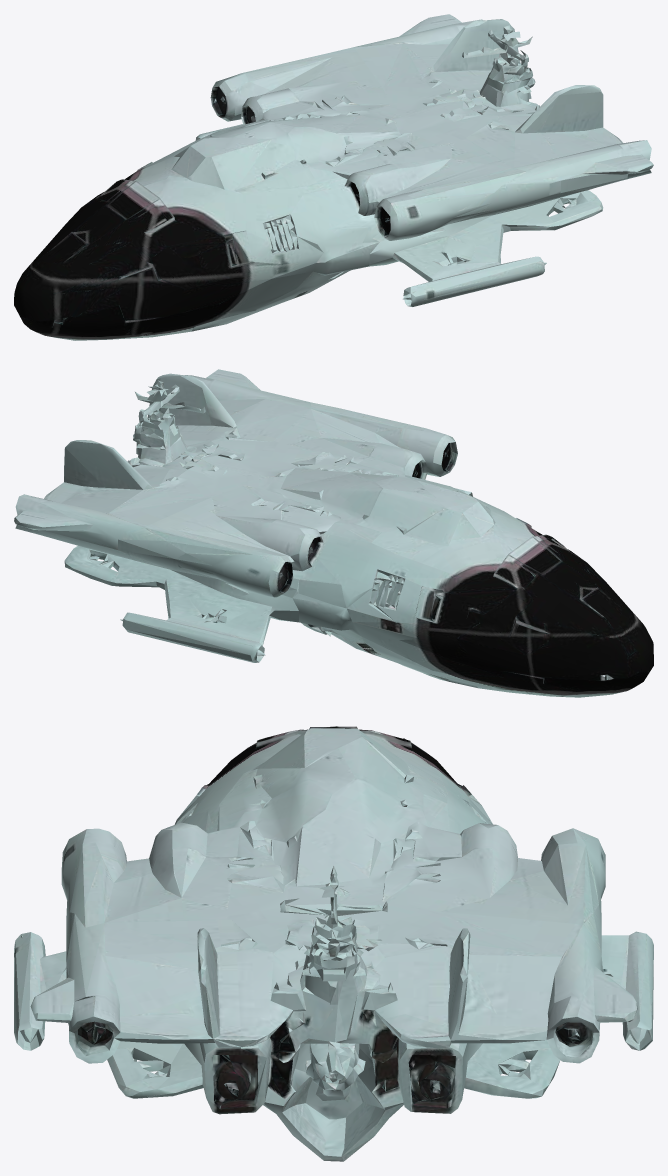
Rendered from nation-x-carrier.glb.
3 views of the same model, one above another, from view 1: azimuth 30°, elevation 25°; view 2: azimuth 150°, elevation 25°; view 3: azimuth 270°, elevation 25° (orthographic). The views are drawn at different scales.
Size of the model in its own units: 1.9 by 0.7393 by 1.32.
Materials: 1 (1 with a texture image).
